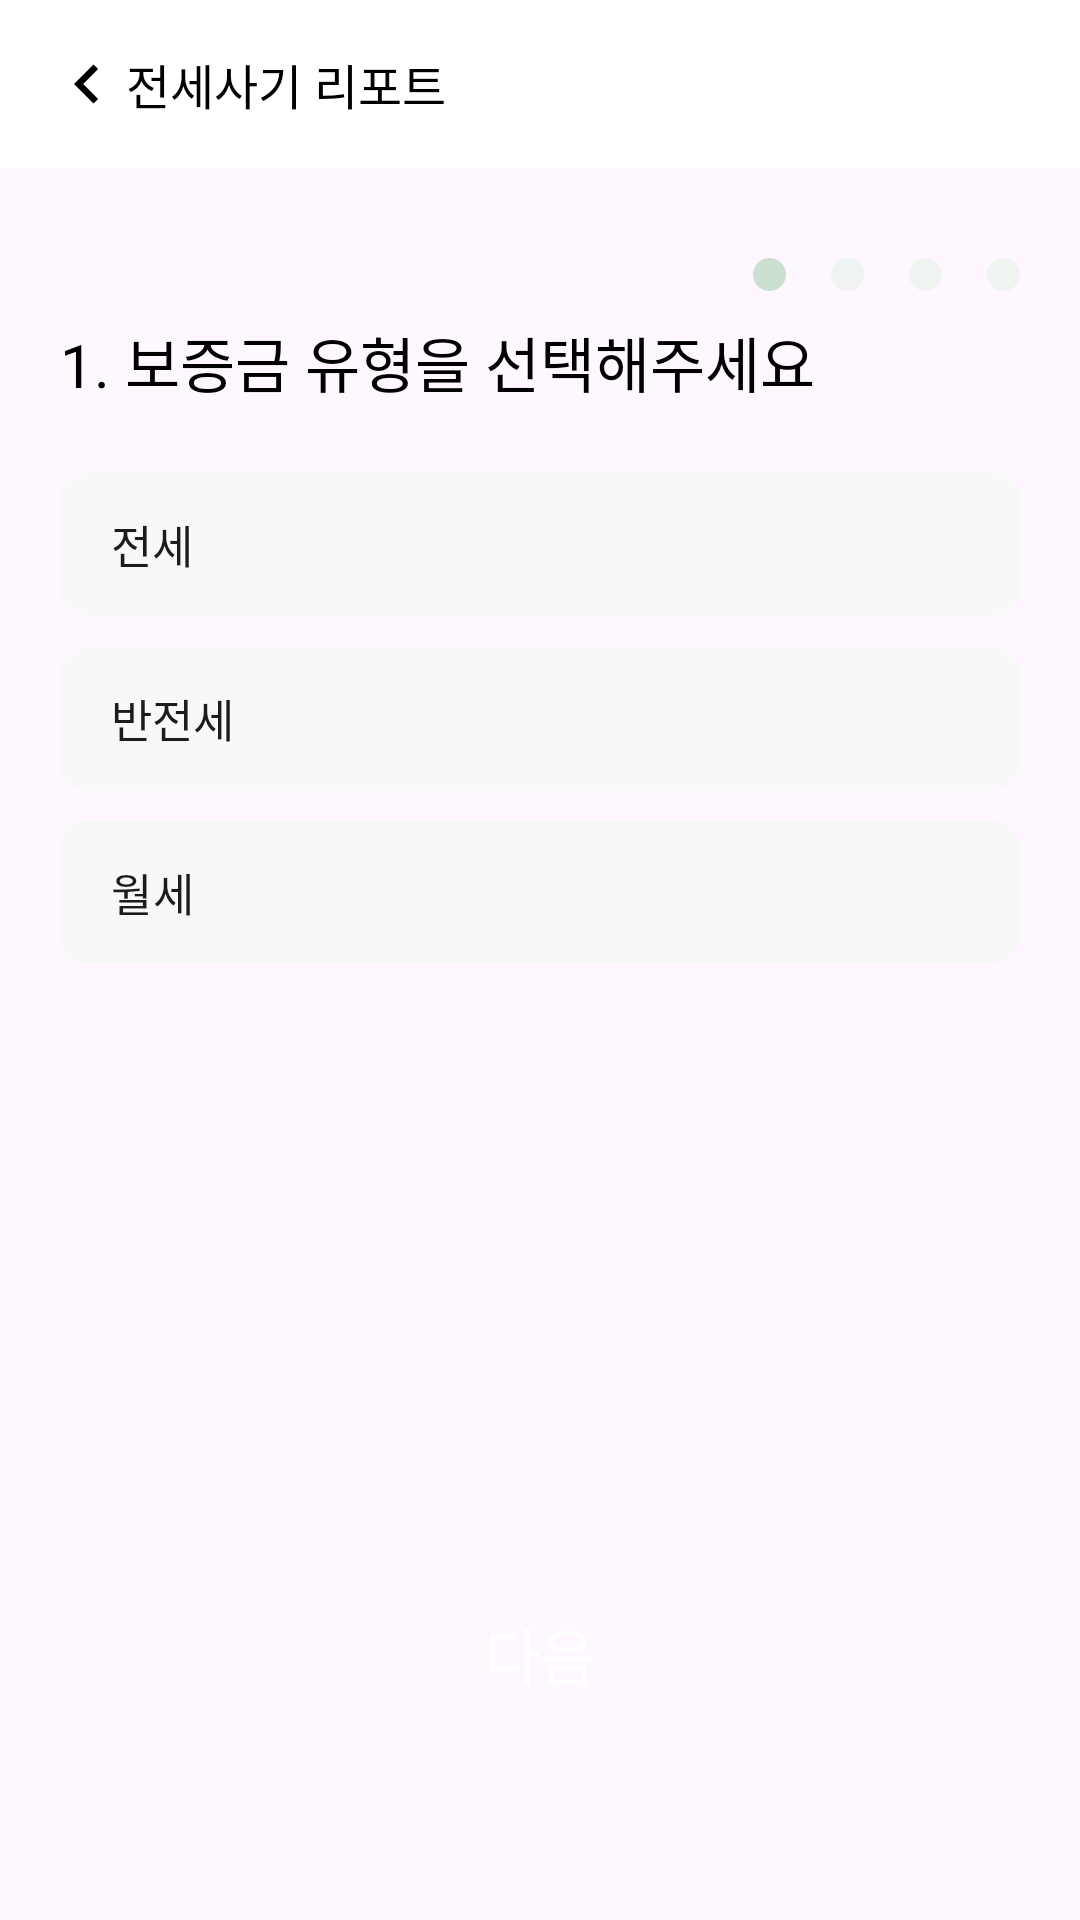

Where to tap for icons on this 1080px×1920px app screen, as [x,y]:
report back arrow: [86,84]
